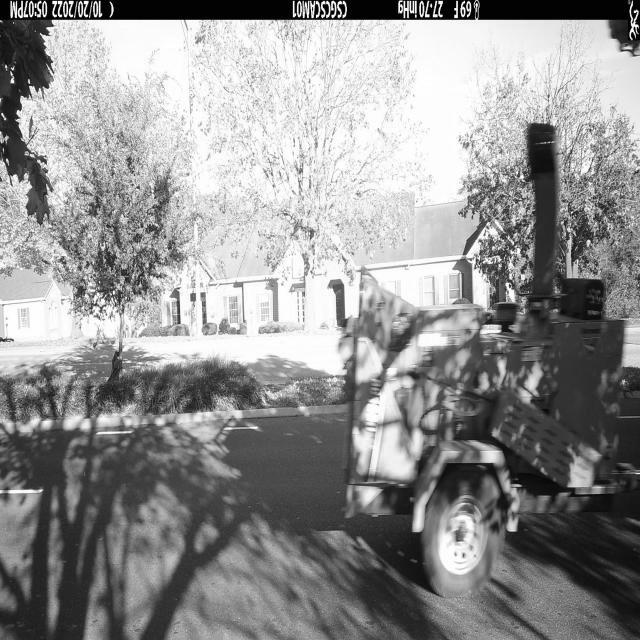Trailer: (337, 125, 640, 600)
